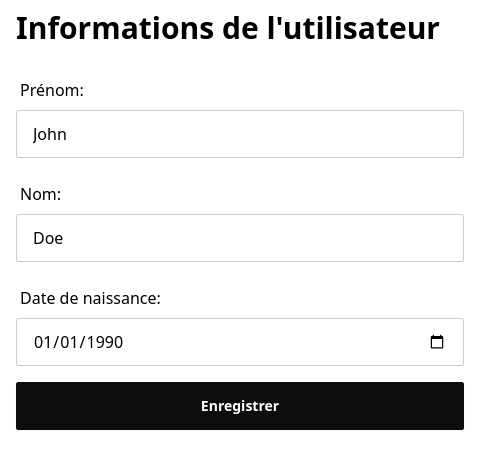
it: InformationPage › does not submit form with invalid data
# Remplir un champ incorrect (prénom trop court)
Replace the text in the field labelled "Prénom:" with "J": [240, 134] box [16, 110, 464, 158]
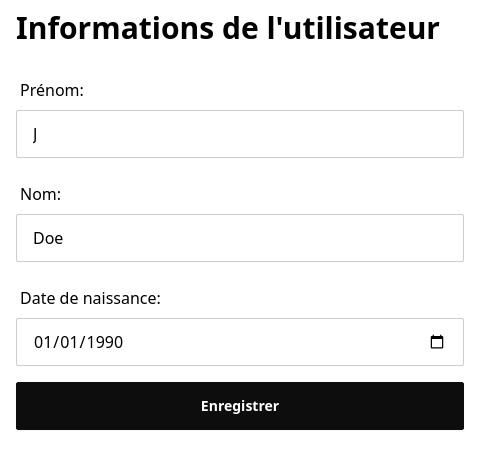
# Soumettre le formulaire
Click the button "Enregistrer": [240, 406] box [16, 382, 464, 430]
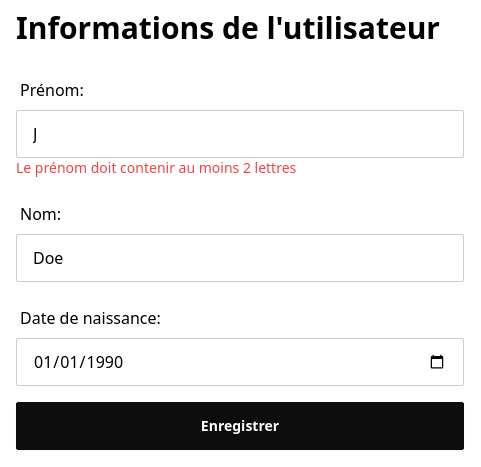
Expected: the text "Le prénom doit contenir au moins 2 lettres" is shown, [16, 158, 296, 177]
